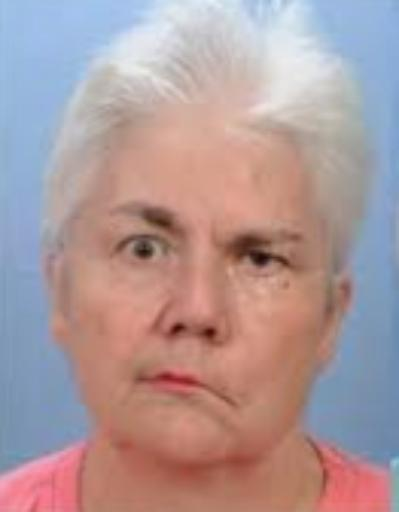left_eye: (228, 248, 294, 277)
left_lip_corner: (205, 382, 243, 408)
right_eye: (115, 236, 175, 267)
right_lip_corner: (133, 370, 149, 392)
